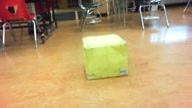cube: (82, 33, 129, 80)
